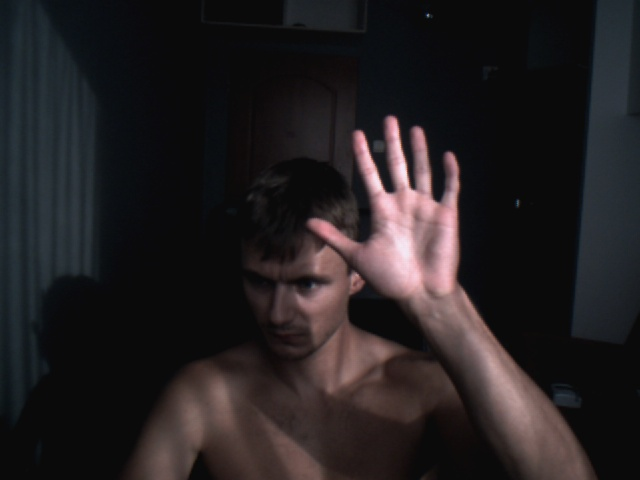open: (305, 115, 469, 294)
